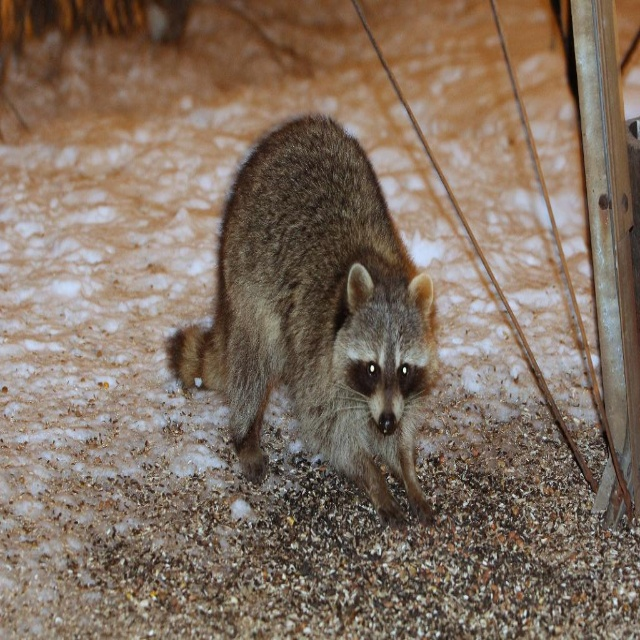Raccoon: (165, 113, 438, 532)
